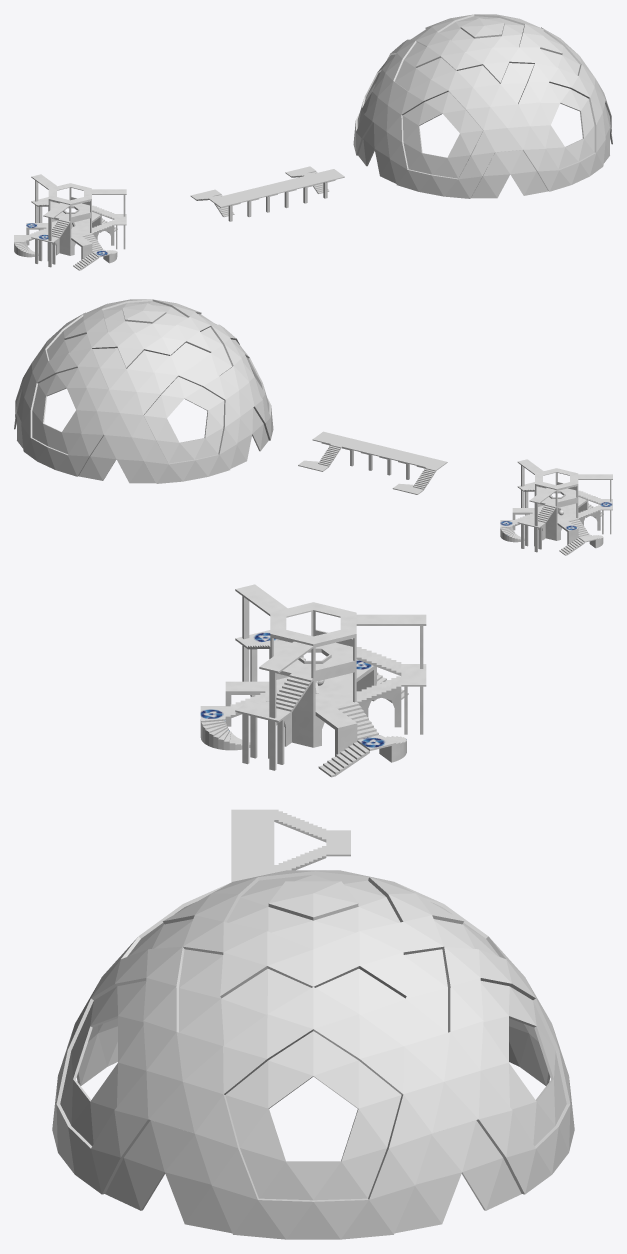
Rendered from buildings.gltf.
3 renders of one model, top to bottom at view 1: azimuth 30°, elevation 25°; view 2: azimuth 150°, elevation 25°; view 3: azimuth 270°, elevation 25°, orthographic. The views are drawn at different scales.
Visible parts, largest first — view 1: GeoSphere07, Object03, 8 sm tr after zb, UTypeStair001; view 2: GeoSphere07, Object03, 8 sm tr after zb, UTypeStair001; view 3: GeoSphere07, Object03, 8 sm tr after zb, UTypeStair001.
Boxes of the visible parts, <box> form: GeoSphere07: <box>353,14,611,198</box>; Object03: <box>357,16,612,198</box>; 8 sm tr after zb: <box>14,174,126,270</box>; UTypeStair001: <box>190,166,344,221</box>; GeoSphere07: <box>15,299,273,483</box>; Object03: <box>14,301,269,483</box>; 8 sm tr after zb: <box>500,459,612,555</box>; UTypeStair001: <box>298,431,447,494</box>; GeoSphere07: <box>52,870,574,1239</box>; Object03: <box>60,875,566,1233</box>; 8 sm tr after zb: <box>200,584,426,777</box>; UTypeStair001: <box>231,809,350,882</box>.
Size of the model in its own units: 140 by 27.46 by 54.83.
Materials: 4 (1 with a texture image).
